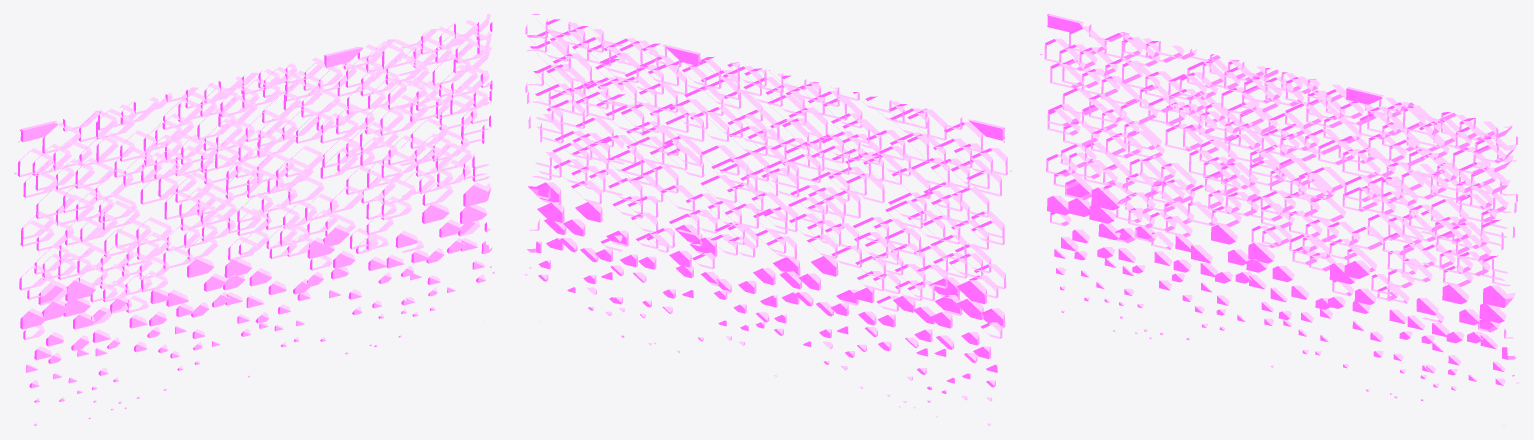
Rendered from Wall decoration neon 1.glb.
3 views of the same model, side by side, from view 1: azimuth 30°, elevation 25°; view 2: azimuth 150°, elevation 25°; view 3: azimuth 330°, elevation 25° (orthographic).
Visible parts, largest first — view 1: Decoration left leds; view 2: Decoration left leds; view 3: Decoration left leds.
Boxes of the visible parts, x1=… form: Decoration left leds: x1=14, y1=14, x2=495, y2=425; Decoration left leds: x1=524, y1=14, x2=1011, y2=425; Decoration left leds: x1=1040, y1=14, x2=1519, y2=425.
Bounding box in the file's own units: 7.79 × 4.7 × 0.1577.
